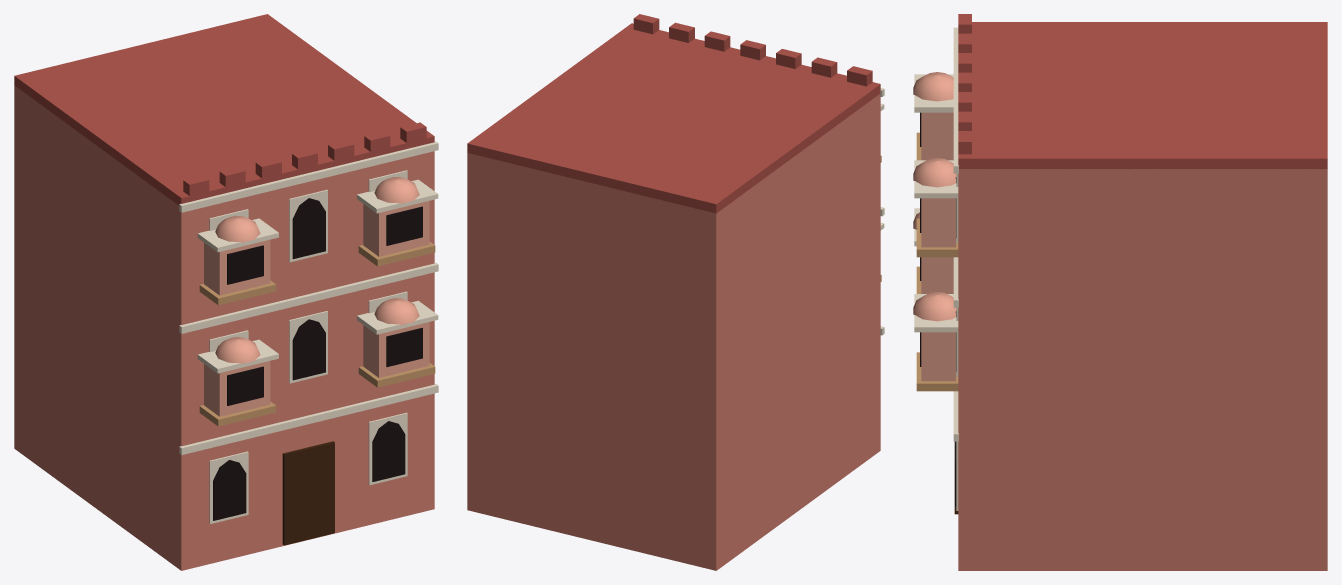
File: bldg_jharokha.glb
3 views of the same model, side by side, from view 1: azimuth 30°, elevation 25°; view 2: azimuth 150°, elevation 25°; view 3: azimuth 270°, elevation 25° (orthographic). The views are drawn at different scales.
Visible parts, largest first — view 1: bldg_jharokha; view 2: bldg_jharokha; view 3: bldg_jharokha.
Part boxes in pixels (bbox=[...]): bldg_jharokha: bbox=[14, 14, 438, 570]; bldg_jharokha: bbox=[467, 14, 884, 570]; bldg_jharokha: bbox=[913, 14, 1327, 570].
Size of the model in its own units: 7.1 by 10.14 by 8.97.
1 material, 1 textured.
